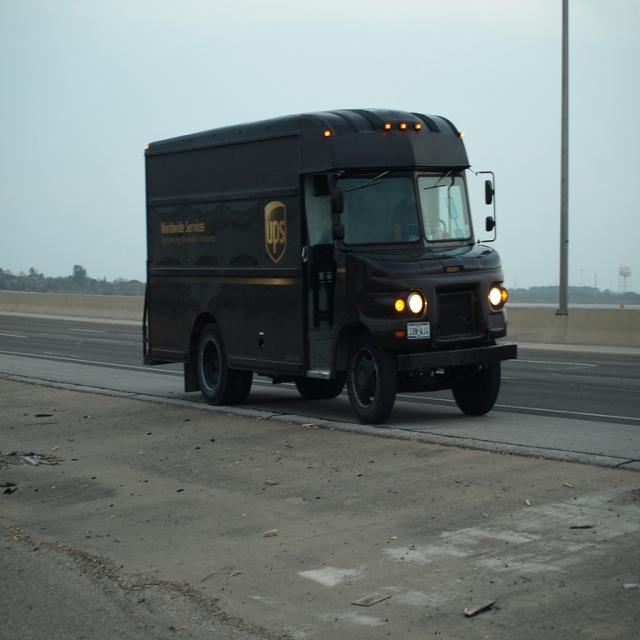ups: (265, 201, 289, 264)
